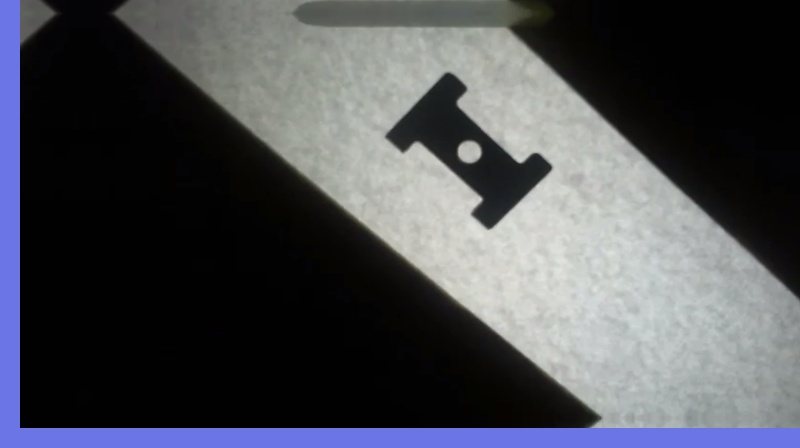O002: (381, 68, 556, 230)
